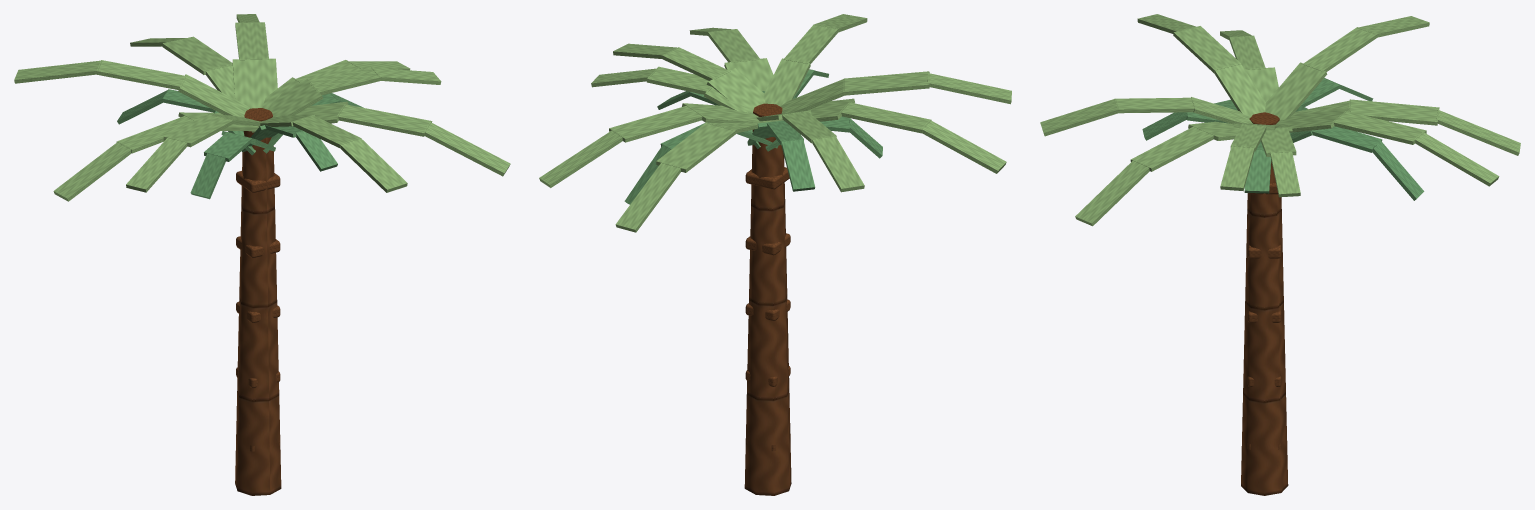
The model's file is jungle-temple-and-stone-city-palm-sapling-6702b25c.glb.
3 views of the same model, side by side, from view 1: azimuth 30°, elevation 25°; view 2: azimuth 150°, elevation 25°; view 3: azimuth 270°, elevation 25° (orthographic). The views are drawn at different scales.
Parts seen in each view (by area): view 1: palm-sapling; view 2: palm-sapling; view 3: palm-sapling.
Boxes of the visible parts, x1=… form: palm-sapling: x1=14, y1=14, x2=510, y2=495; palm-sapling: x1=539, y1=14, x2=1011, y2=495; palm-sapling: x1=1040, y1=14, x2=1520, y2=495.
Size of the model in its own units: 2.57 by 2.64 by 2.85.
Materials: 3 (3 with a texture image).
